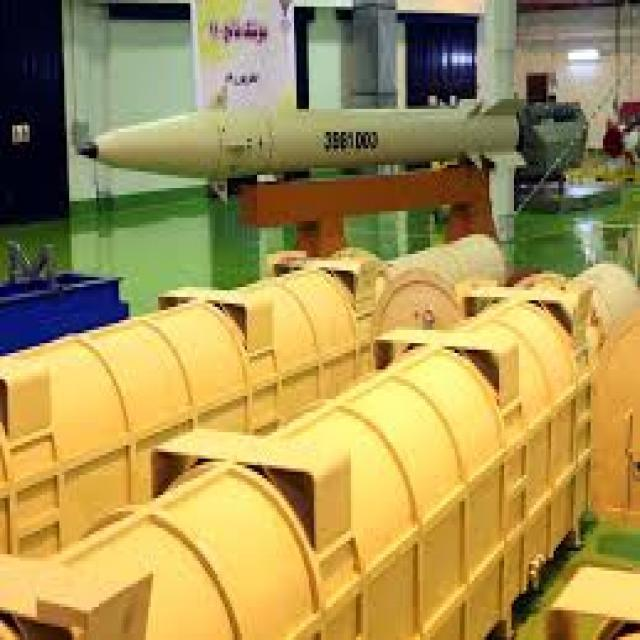missile: (52, 97, 531, 181)
